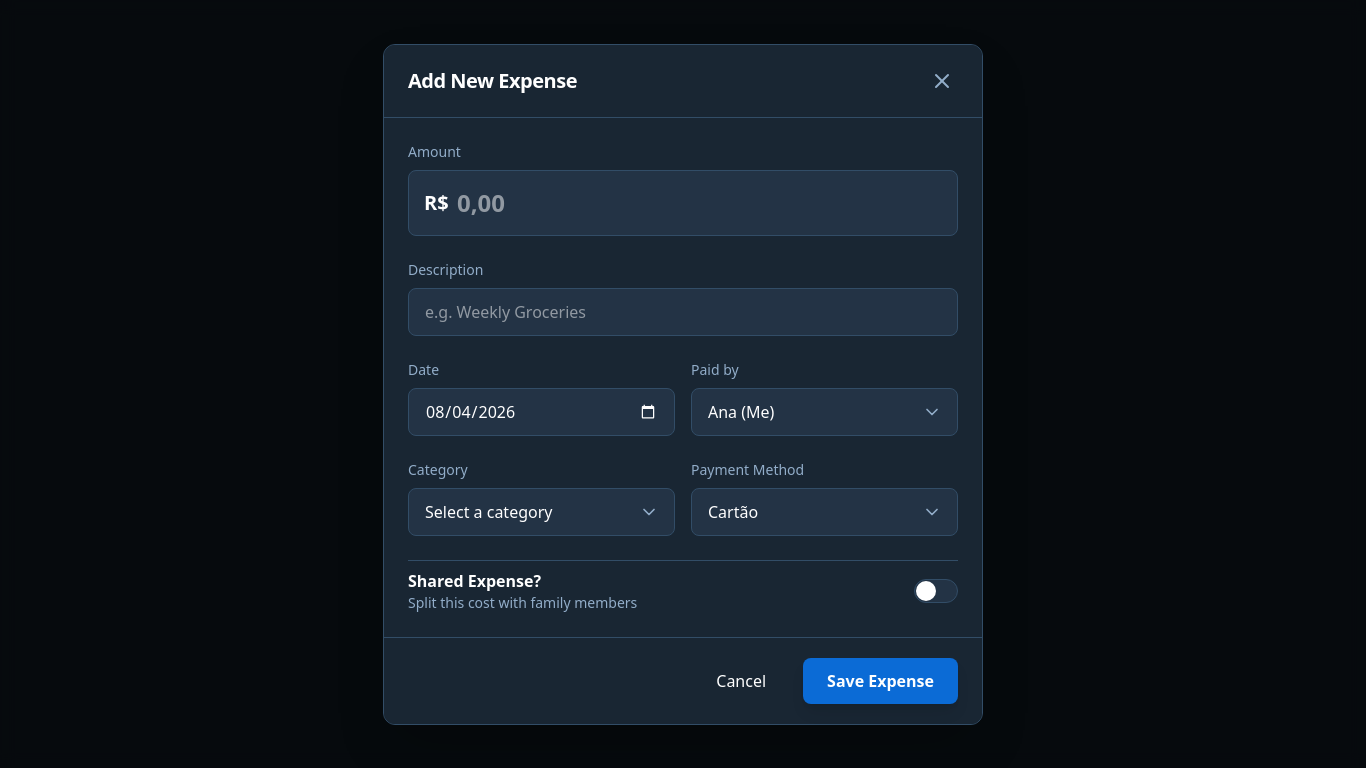
Test: ExpenseModal › ExpenseModal_ChangePct_RebalancesOthersProportionally
Click the checkbox.
click(936, 590)  # box [914,578,958,602]
(page scrolled)
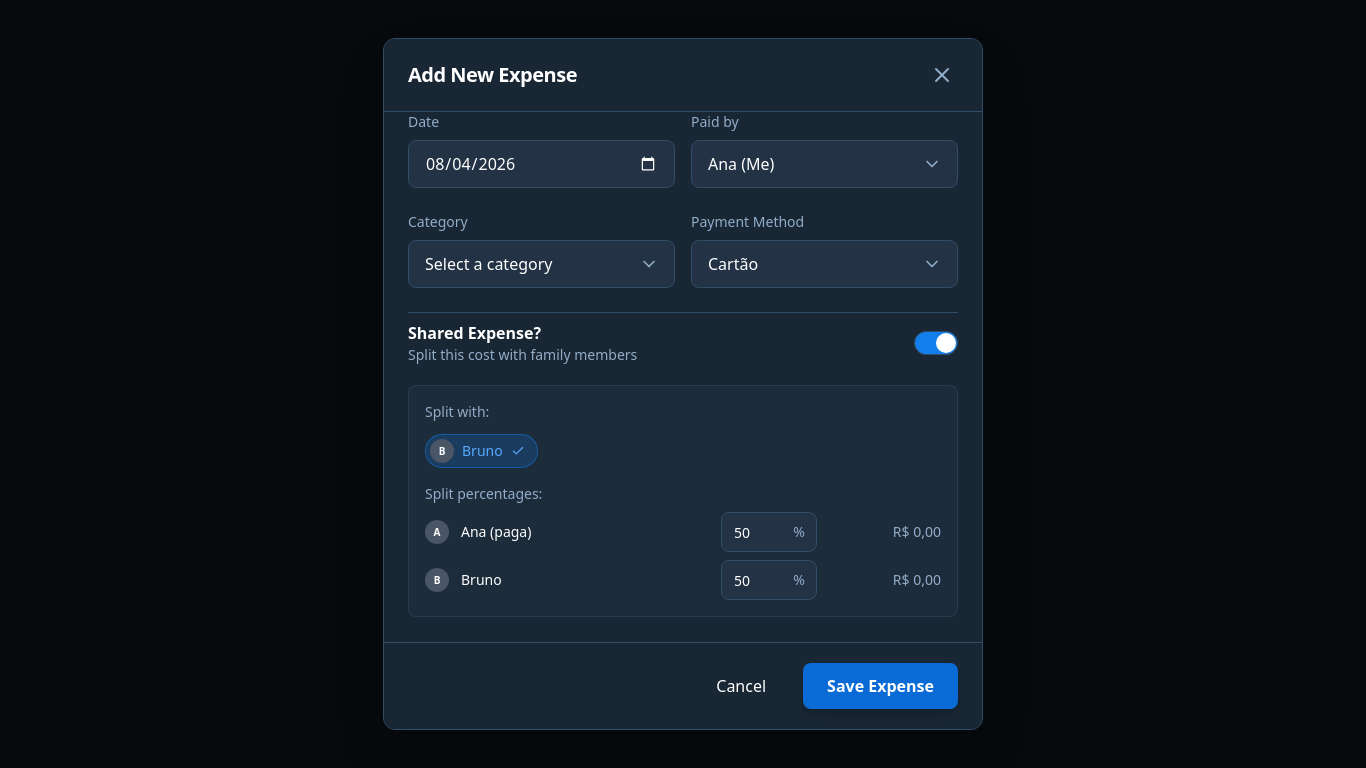
Replace the text in the number field named "Percentual de Ana" with "70" at coordinates (769, 532), box [721,512,817,552]
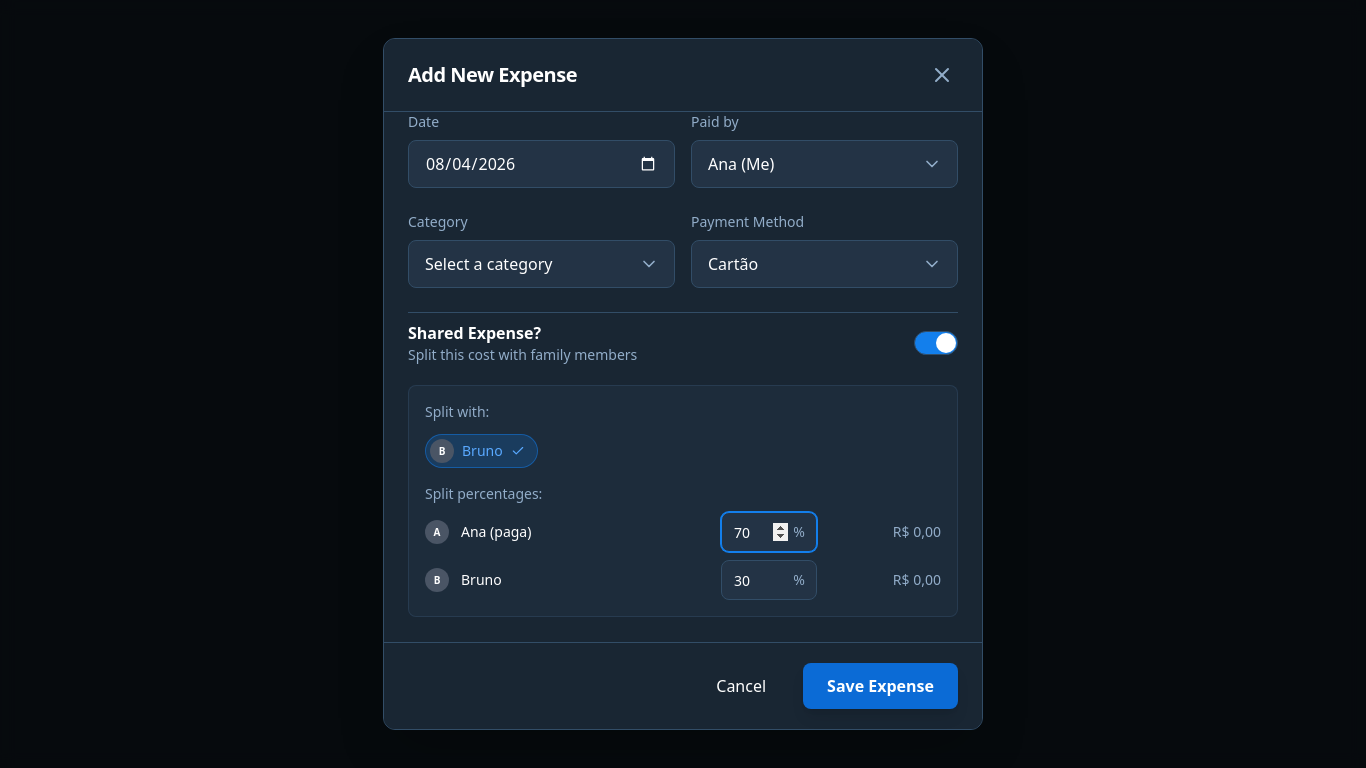
expect the number field named "Percentual de Bruno" holds "30": met, box [721,560,817,600]
